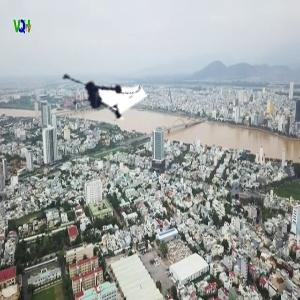drone: (52, 49, 137, 134)
